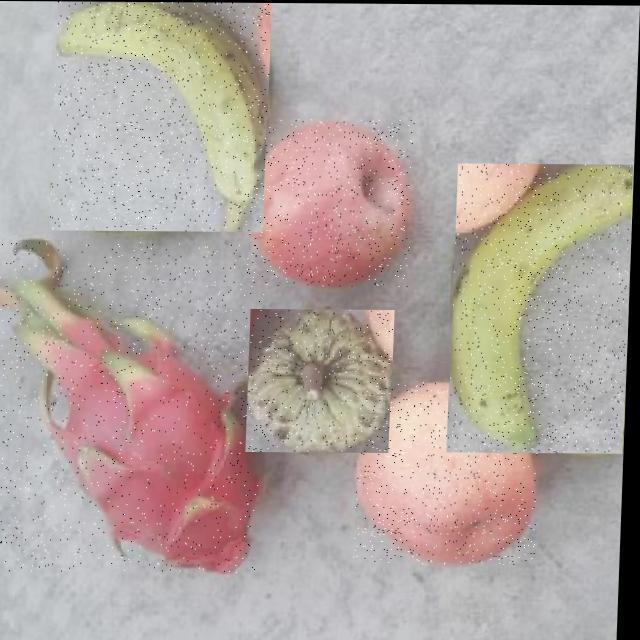cups: (5, 238, 263, 573), (255, 118, 411, 288)
paper: (1, 2, 635, 638)
